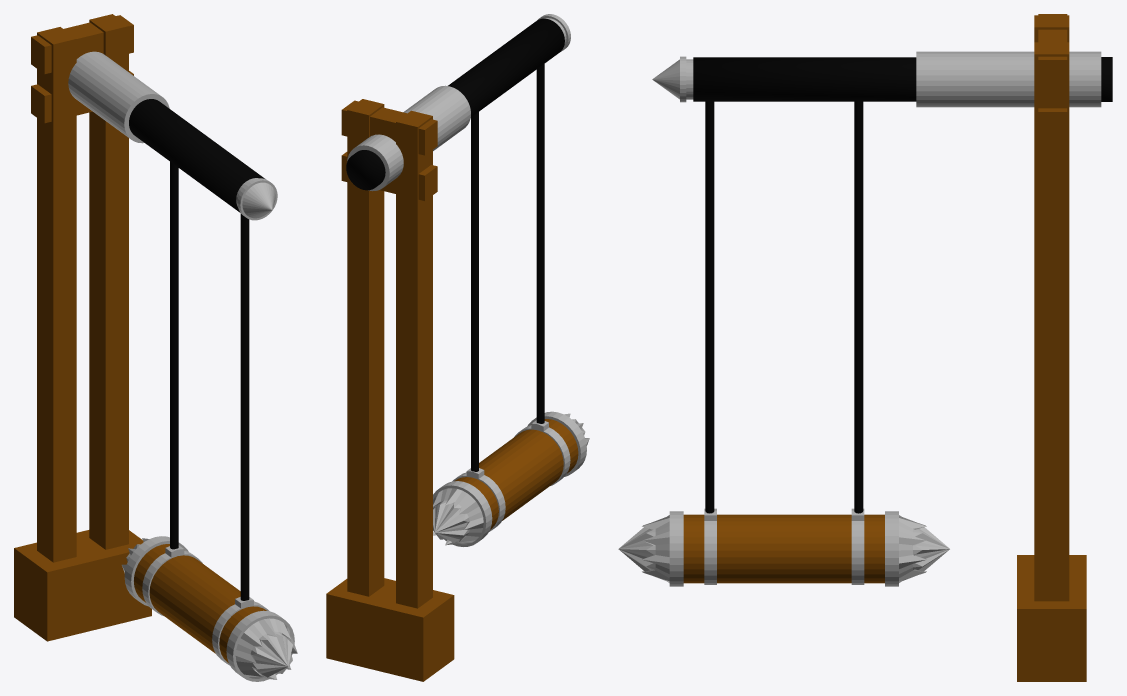
File: TabungBerduri+tiangFIX.fbx
3 renders of one model, left to right at view 1: azimuth 30°, elevation 25°; view 2: azimuth 150°, elevation 25°; view 3: azimuth 270°, elevation 25°, orthographic. The views are drawn at different scales.
Visible parts, largest first — view 1: Cube.003, Cylinder.001, Cylinder.004, Cylinder.002; view 2: Cube.003, Cylinder.001, Cylinder.004, Cylinder.002; view 3: Cylinder.001, Cube.003, Cylinder.004, Cylinder.002.
Part boxes in pixels (left/top/right/bottom): Cube.003: left=14, top=14, right=151, bottom=641; Cylinder.001: left=122, top=162, right=297, bottom=681; Cylinder.004: left=129, top=99, right=264, bottom=212; Cylinder.002: left=68, top=51, right=277, bottom=220; Cube.003: left=326, top=99, right=454, bottom=681; Cylinder.001: left=433, top=64, right=589, bottom=546; Cylinder.004: left=346, top=18, right=564, bottom=190; Cylinder.002: left=347, top=14, right=570, bottom=191; Cylinder.001: left=618, top=101, right=949, bottom=586; Cube.003: left=1017, top=14, right=1086, bottom=681; Cylinder.004: left=693, top=57, right=1112, bottom=101; Cylinder.002: left=652, top=51, right=1101, bottom=107.
Bounding box in the file's own units: 111 × 597 × 432.
